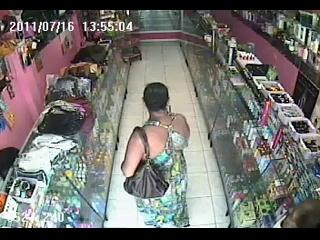Normal: (121, 82, 191, 227), (123, 126, 170, 199)
